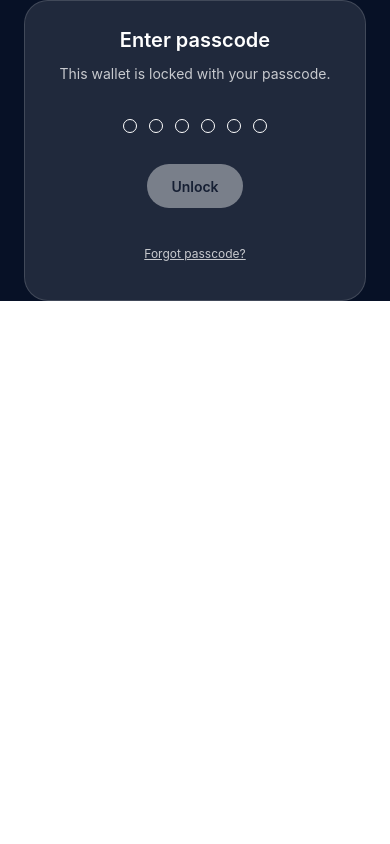
Test case: forgot-passcode reset and unsent messages › confirmed: both checkboxes, then the wipe runs once WITH includeUnsent
Later steps or results of the test are not shown.
Click the button "Forgot passcode?".
click(195, 254)  # box [144,232,246,276]
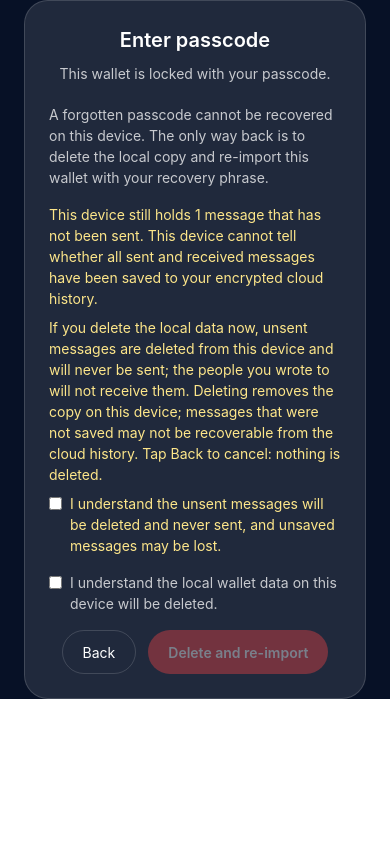
Check: the message with test id "reset-unsent-warning" is shown, box [49,204,341,556]
Click the 1st checkbox.
click(56, 504)  # box [49,497,62,510]
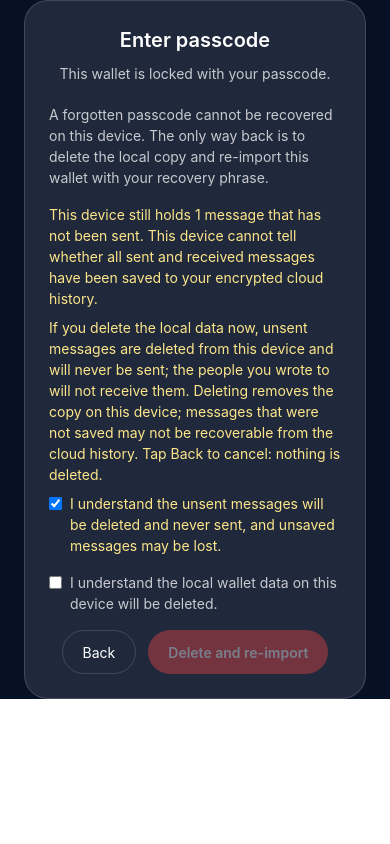
Click the 2nd checkbox.
click(56, 582)  # box [49,576,62,589]
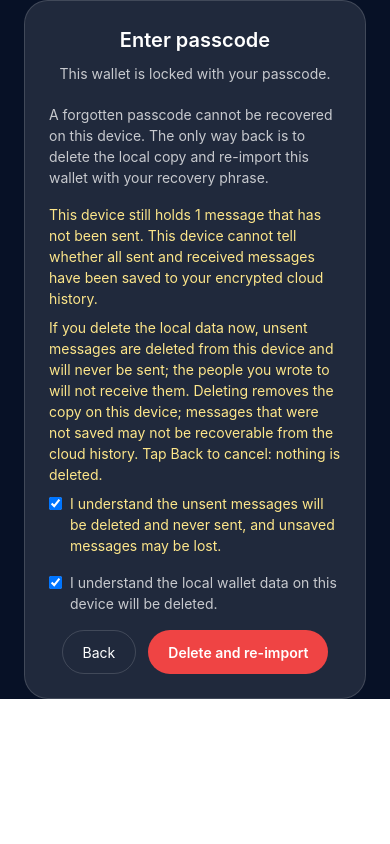
Check: the button "Delete and re-import" is enabled, box [148,630,328,674]
